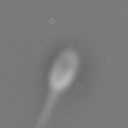normal: (30, 90, 61, 128)
